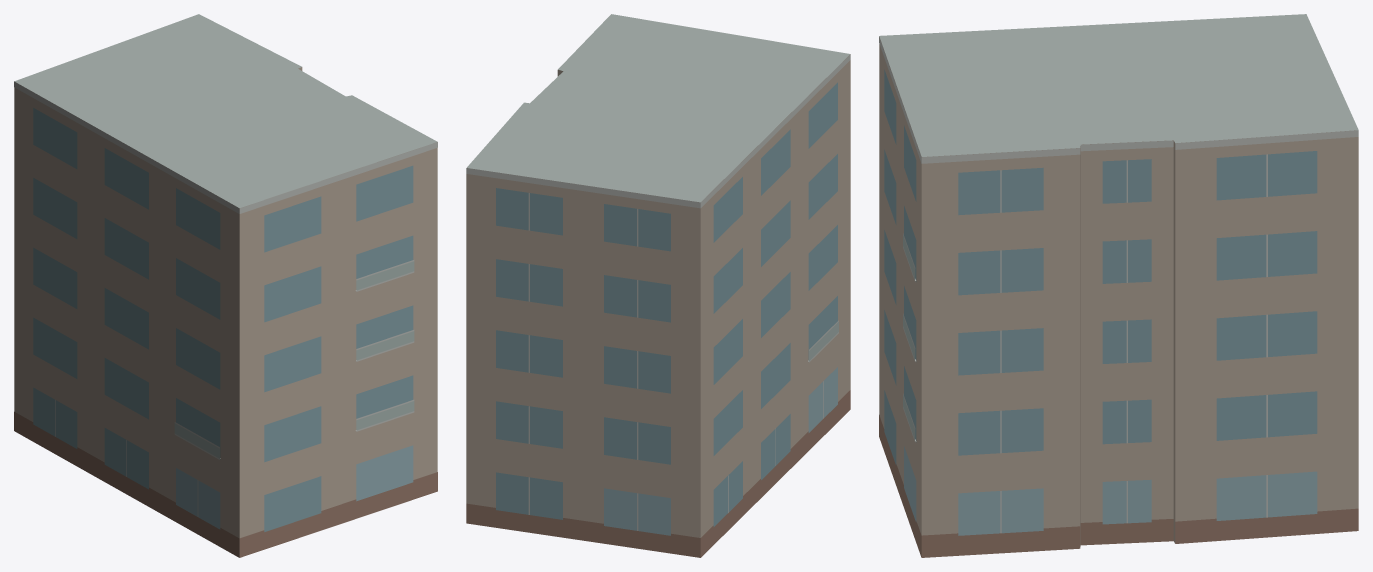
The model's file is survey-upis-32935380.glb.
3 renders of one model, left to right at view 1: azimuth 30°, elevation 25°; view 2: azimuth 150°, elevation 25°; view 3: azimuth 270°, elevation 25°, orthographic. The views are drawn at different scales.
Visible parts, largest first — view 1: survey-upis-32935380.tmp; view 2: survey-upis-32935380.tmp; view 3: survey-upis-32935380.tmp.
Boxes of the visible parts, x1,y1,x2,y2 form: survey-upis-32935380.tmp: [14, 14, 437, 557]; survey-upis-32935380.tmp: [466, 14, 850, 557]; survey-upis-32935380.tmp: [879, 14, 1358, 557].
Bounding box in the file's own units: 11.11 × 14.5 × 15.74.
